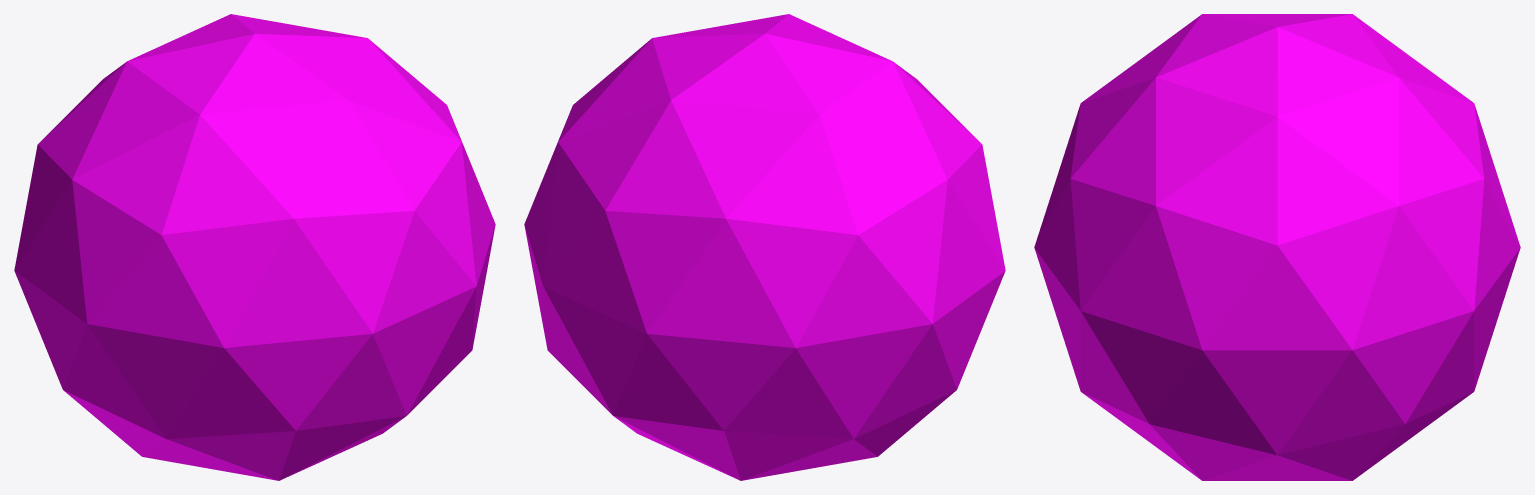
File: debris.obj
The picture shows the model from 3 angles, left to right: view 1: azimuth 30°, elevation 25°; view 2: azimuth 150°, elevation 25°; view 3: azimuth 270°, elevation 25°; orthographic projection. The views are drawn at different scales.
Parts seen in each view (by area): view 1: debris; view 2: debris; view 3: debris.
Boxes of the visible parts, left/top/right/bottom form: debris: left=14, top=14, right=495, bottom=480; debris: left=524, top=14, right=1005, bottom=480; debris: left=1034, top=14, right=1520, bottom=480.
Bounding box in the file's own units: 20 × 20 × 20.
